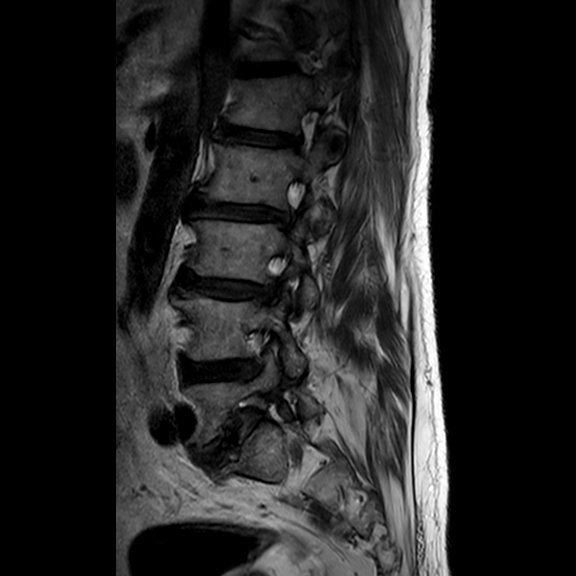LFS0: (240, 248, 294, 310), (267, 170, 310, 239), (284, 101, 330, 165)
